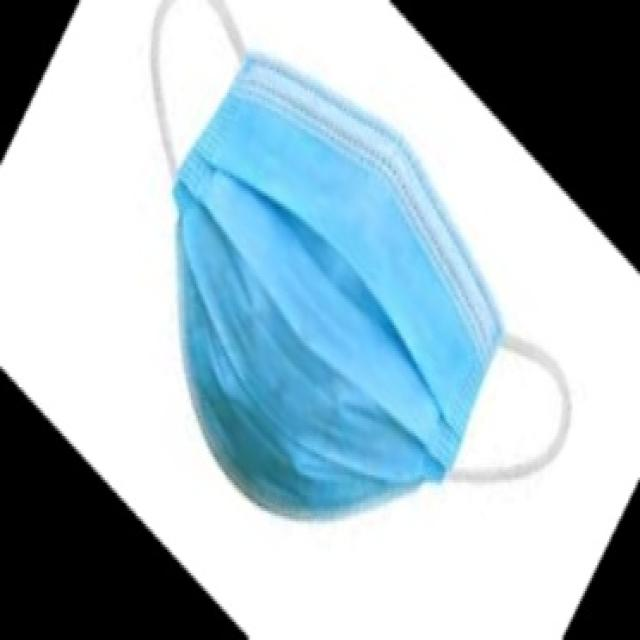masker: (153, 0, 568, 519), (140, 21, 526, 523)
